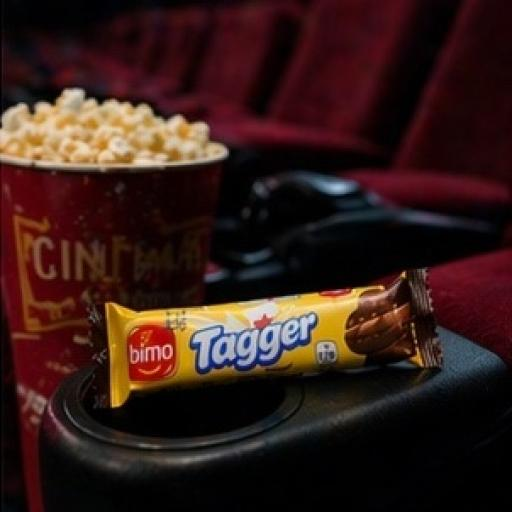tagger: (66, 237, 481, 418)
